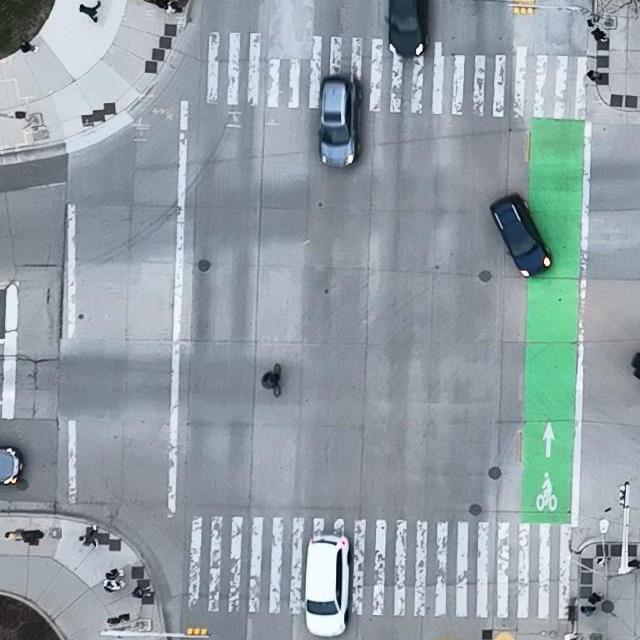car: (489, 193, 553, 277), (304, 534, 351, 636), (318, 76, 361, 168), (384, 0, 431, 57), (0, 445, 25, 487)
